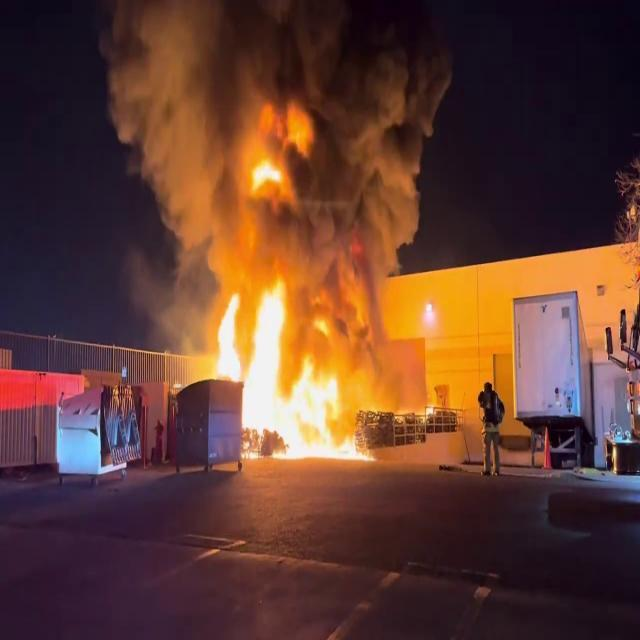Fire: (201, 151, 367, 461)
Smoke: (98, 0, 450, 272)
